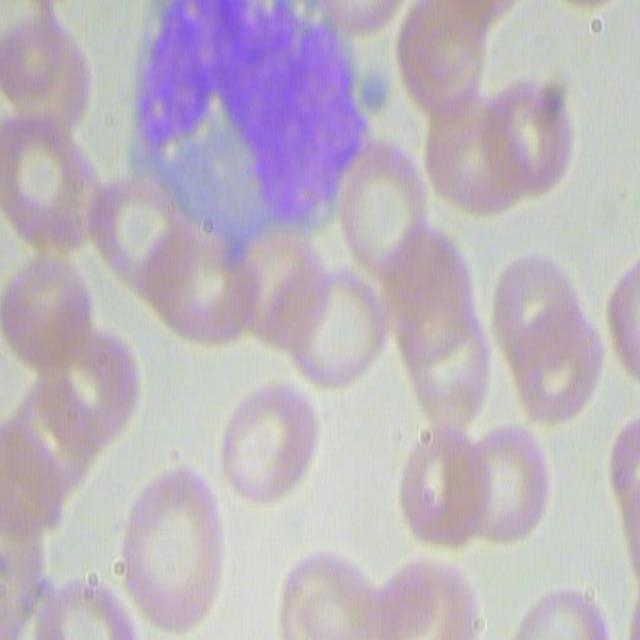RBC: (381, 217, 492, 432), (490, 245, 600, 434), (415, 89, 560, 222), (115, 467, 224, 632), (136, 204, 246, 353), (286, 263, 398, 406), (218, 368, 322, 512), (24, 322, 139, 447), (0, 113, 100, 253), (330, 141, 425, 280), (452, 425, 551, 550), (0, 0, 89, 136), (89, 173, 191, 289), (388, 2, 487, 119), (272, 539, 386, 638), (361, 544, 481, 638), (395, 428, 476, 552), (509, 581, 610, 640), (607, 251, 640, 390)
WBC: (124, 2, 378, 242)
